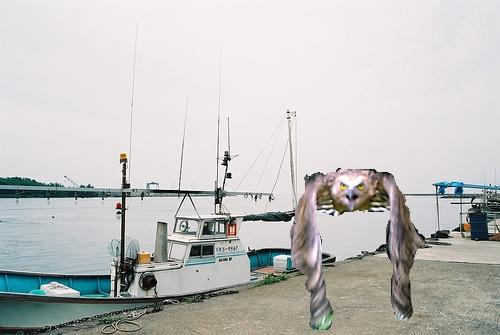tampered: (291, 169, 425, 330)
